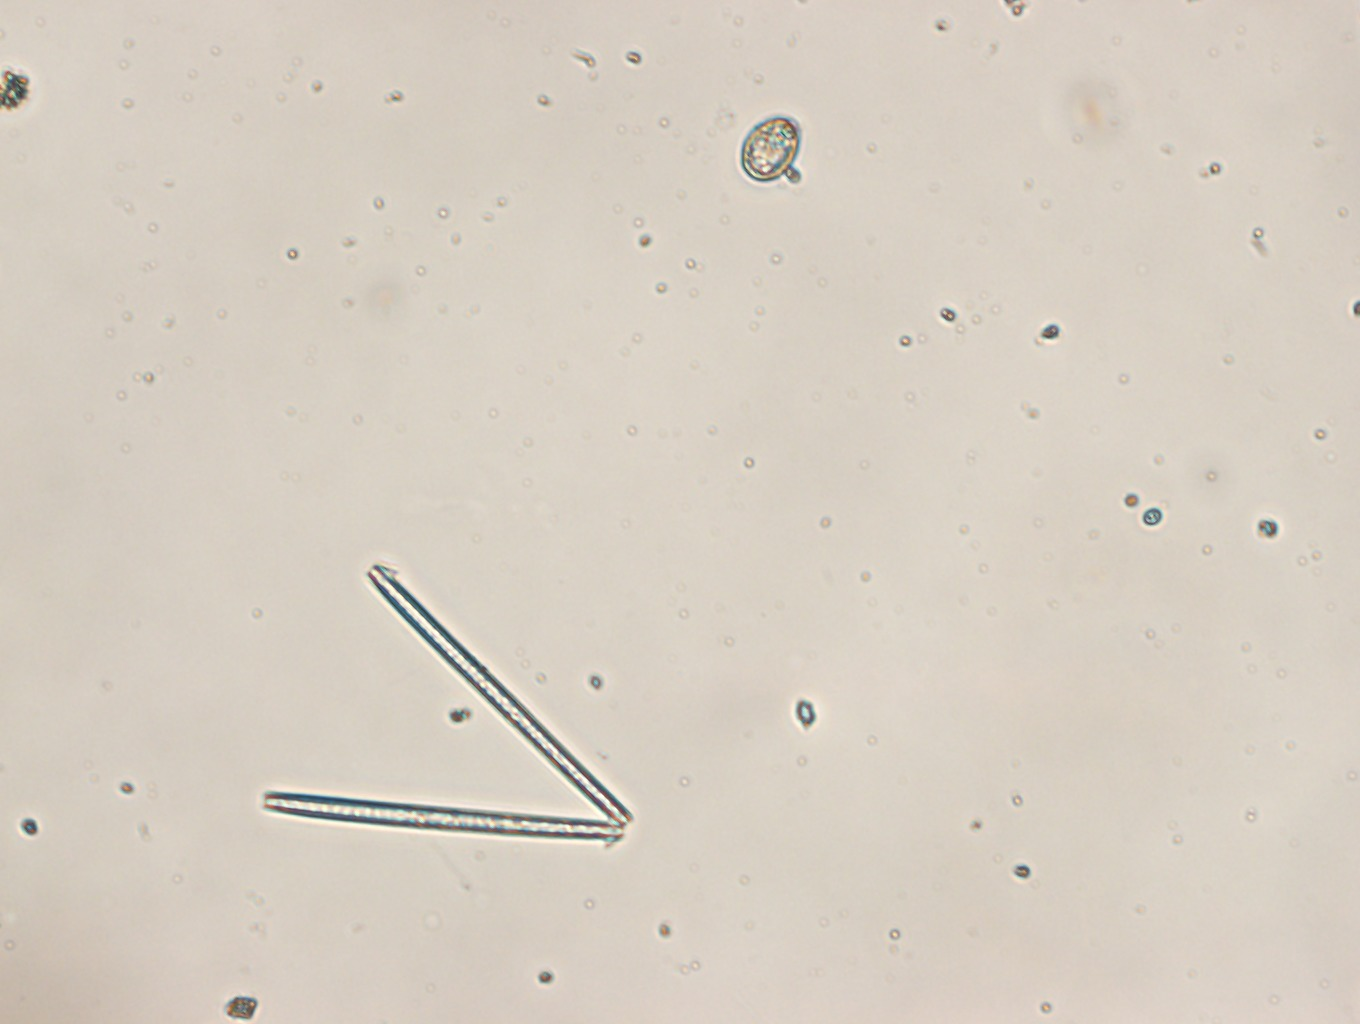thalassionema frauenfeldii: (264, 564, 633, 844)
